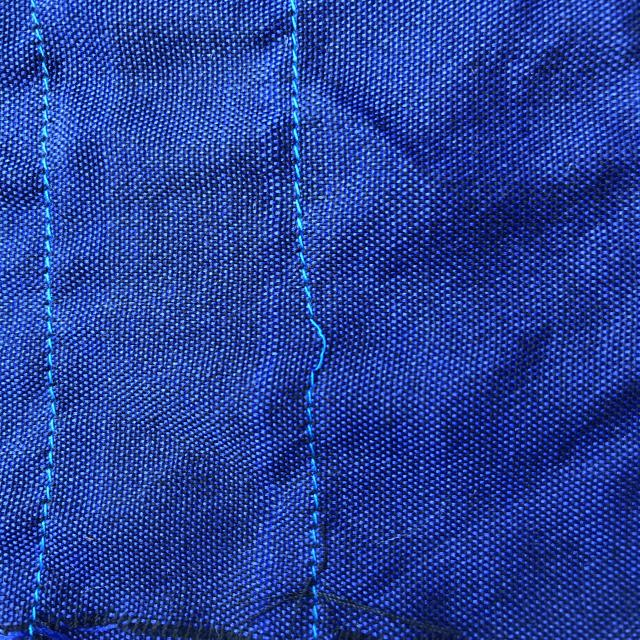skip: (278, 291, 344, 385)
